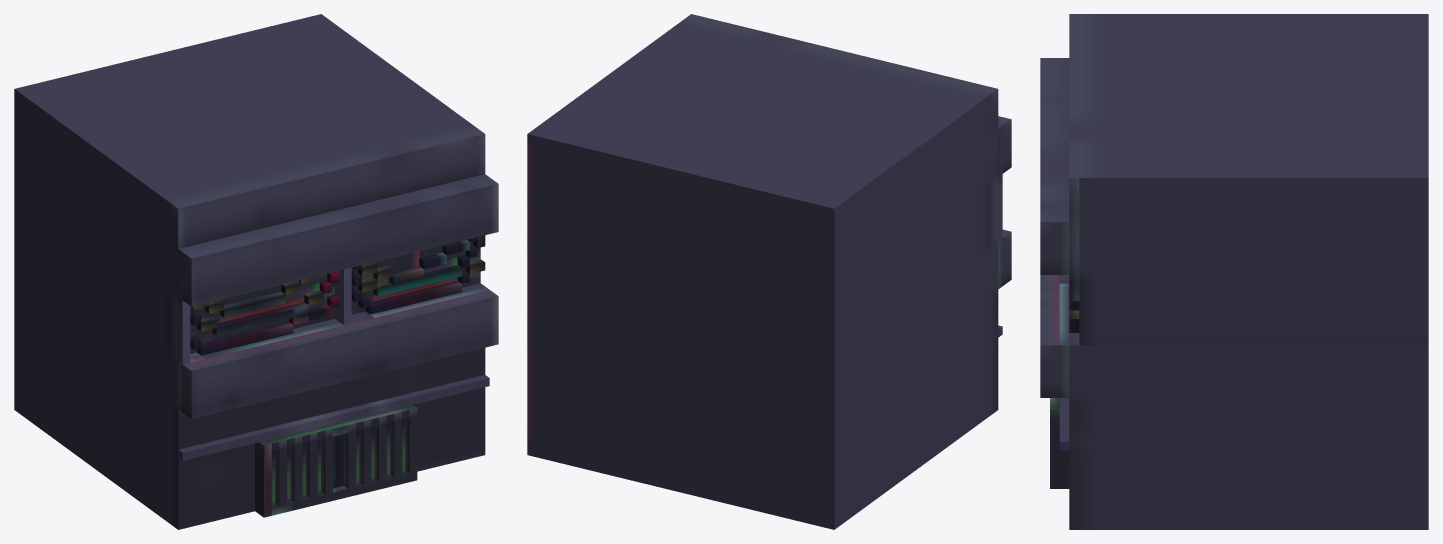
File: TrimPiece_B_00.fbx
The picture shows the model from 3 angles, left to right: view 1: azimuth 30°, elevation 25°; view 2: azimuth 150°, elevation 25°; view 3: azimuth 270°, elevation 25°; orthographic projection. The views are drawn at different scales.
Parts seen in each view (by area): view 1: TrimPiece_B_00; view 2: TrimPiece_B_00; view 3: TrimPiece_B_00.
Boxes of the visible parts, box(x1,y1,x2,y2) form: TrimPiece_B_00: box(14, 14, 498, 529); TrimPiece_B_00: box(527, 14, 1011, 529); TrimPiece_B_00: box(1040, 14, 1428, 529).
Size of the model in its own units: 200 by 200 by 200.
